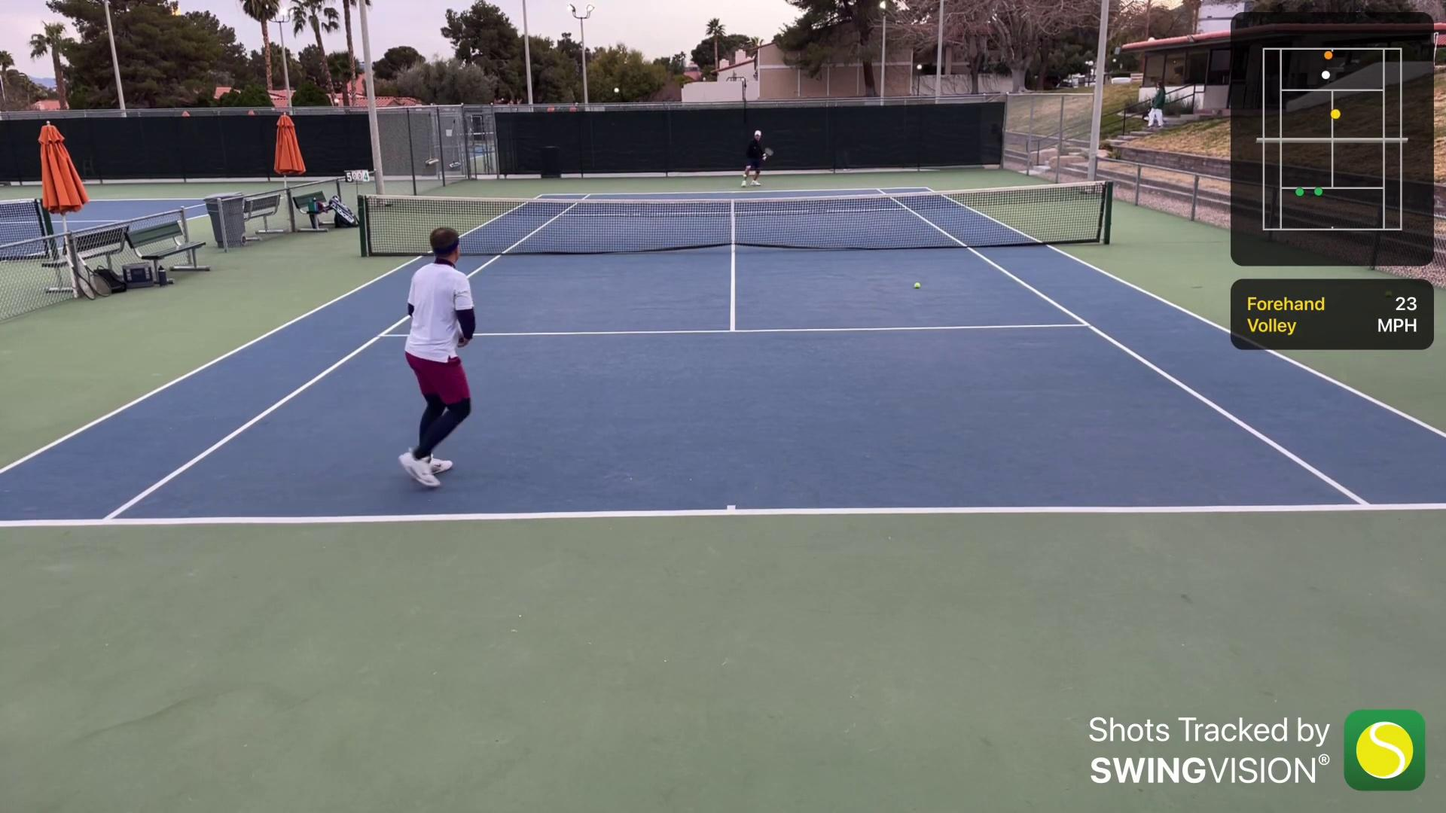ball: (909, 280, 923, 291)
